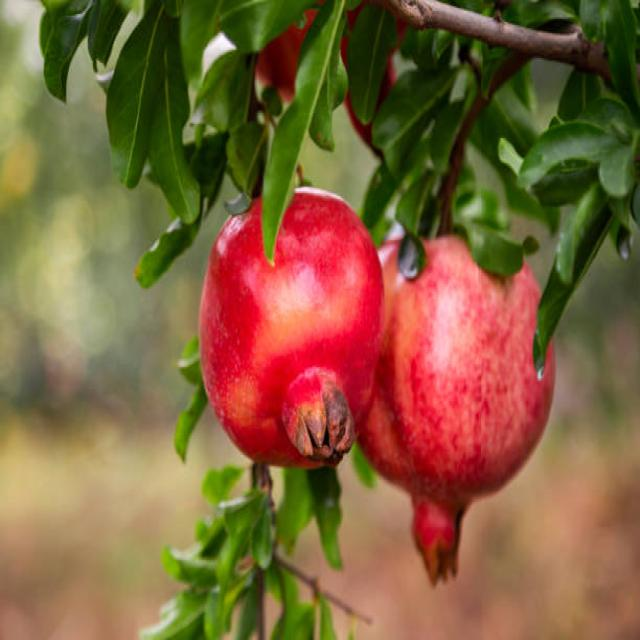Ripe: (384, 232, 556, 586), (194, 174, 388, 474)
